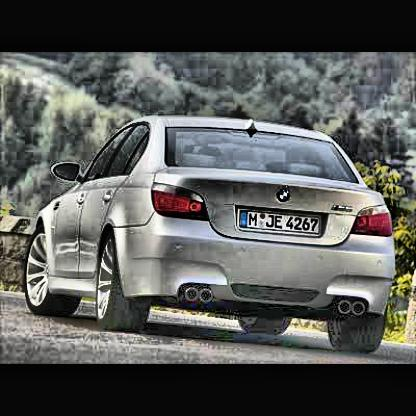BMW M5 Sedan 2010: (26, 116, 398, 357)
